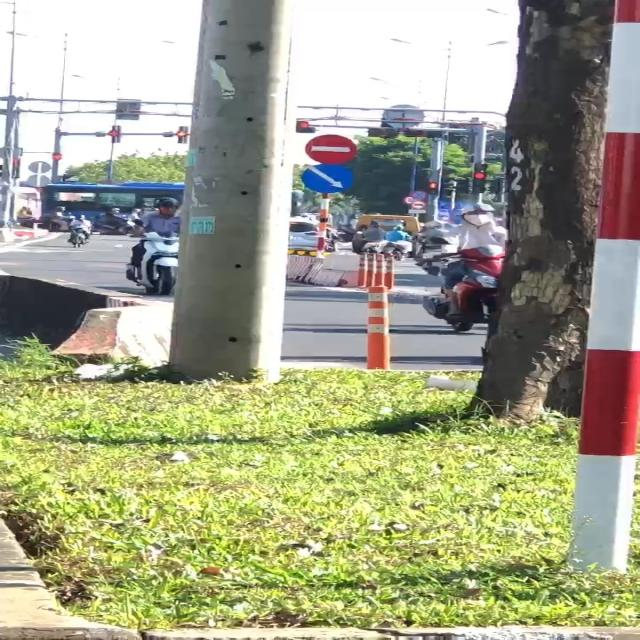Bien bao cam di nguoc chieu: (301, 129, 364, 165)
Bien bao huong phai di vong chuong ngai vat: (300, 163, 354, 194)
